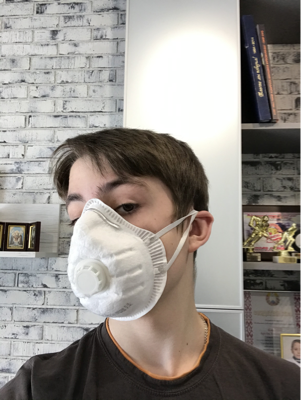with_mask: (65, 174, 180, 323)
